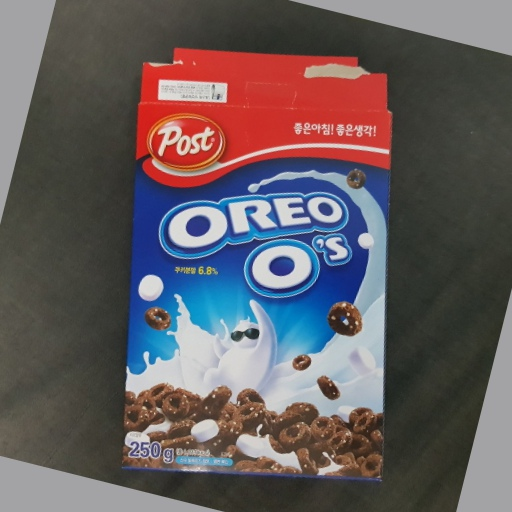Paper_0: (118, 39, 397, 493)
